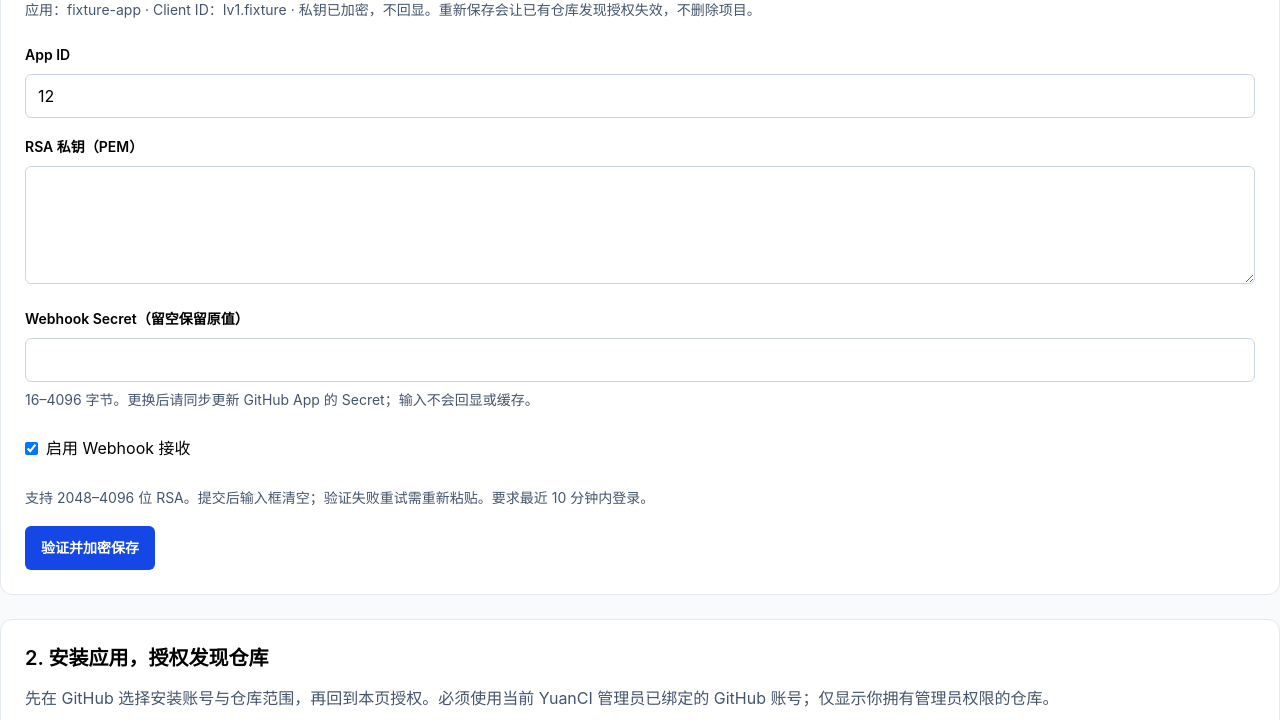
Test: webhook replacement is write-only and health distinguishes local readiness
The width and height of the screenshot is (1280, 720).
(page scrolled)
Type "synthetic-webhook-replacement" into the password field labelled "Webhook Secret（留空保留原值）".
click(640, 360); type("synthetic-webhook-replacement")  # box [25,338,1255,382]
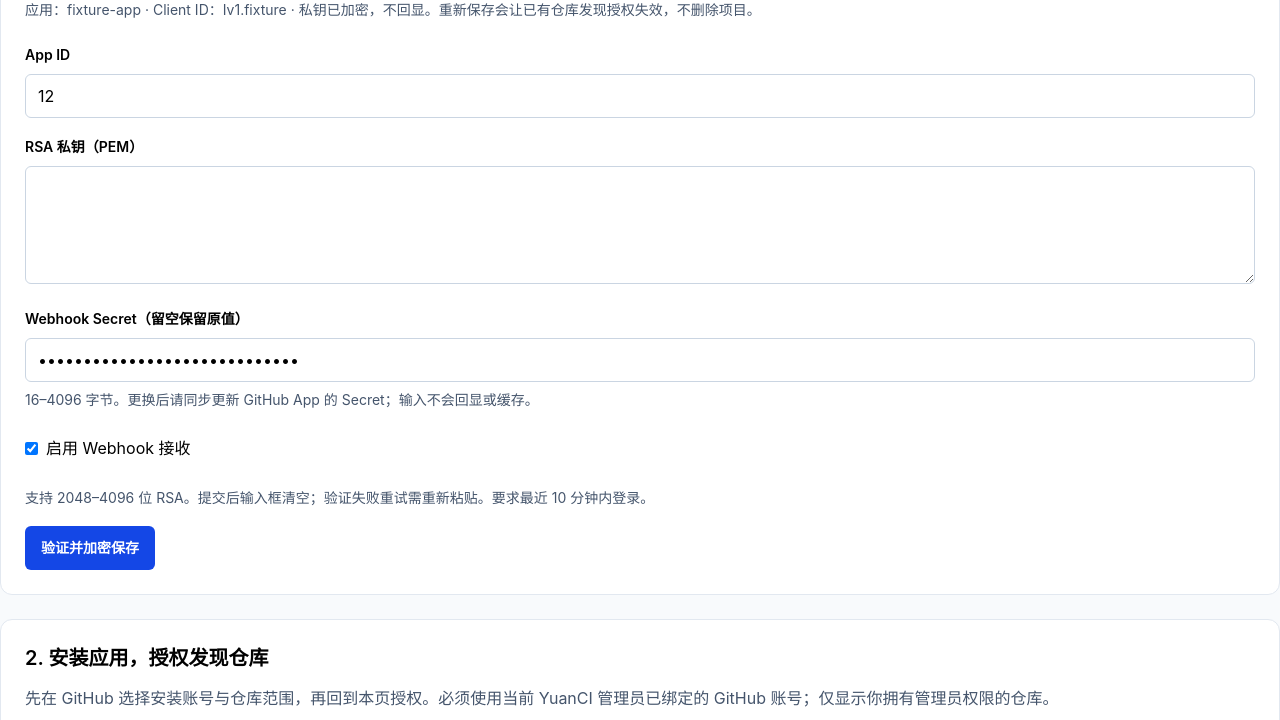
Type "synthetic-key" into the text box labelled "RSA 私钥（PEM）".
click(640, 225); type("synthetic-key")  # box [25,166,1255,284]
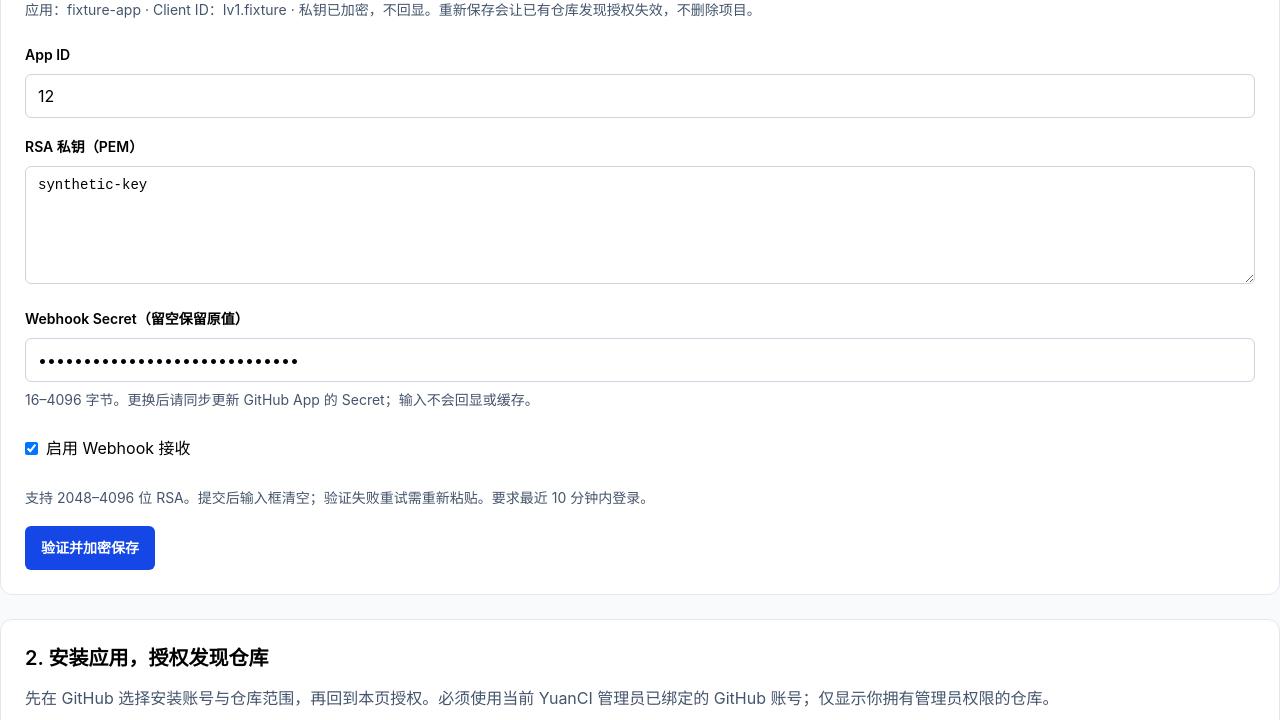
Submit the form named "App 已配置"
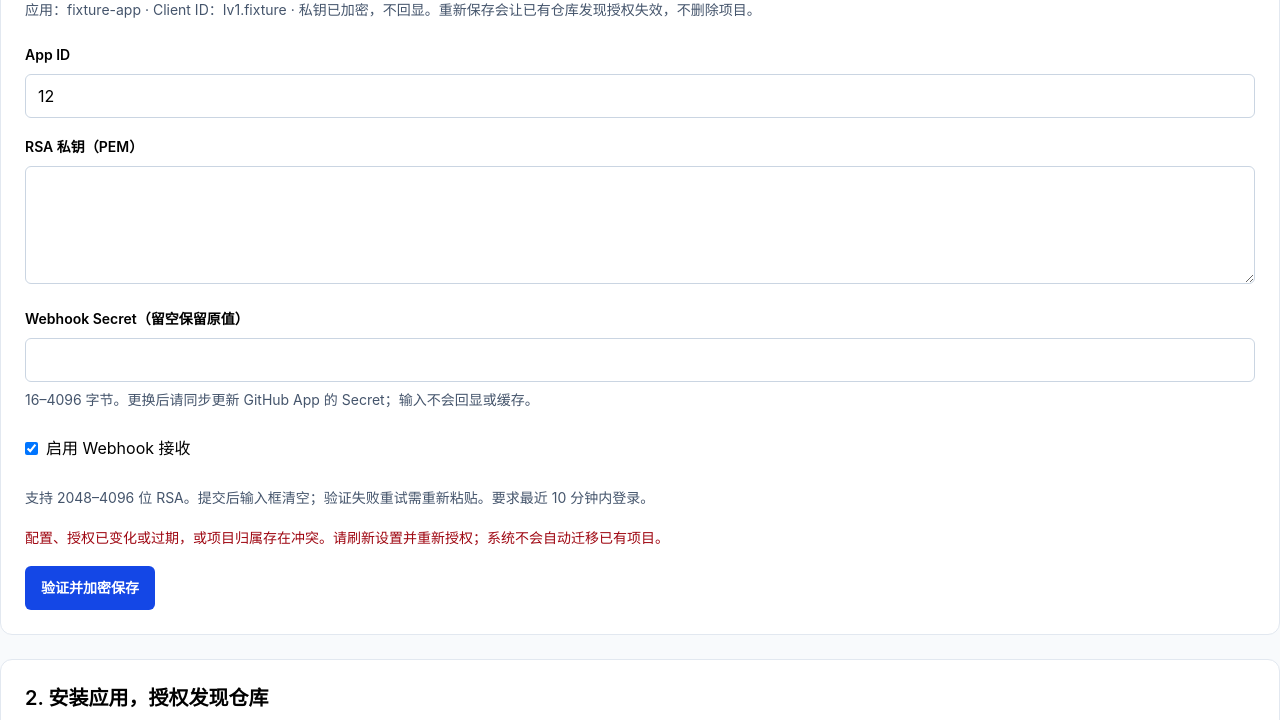
Expected: the message "配置、授权已变化或过期，或项目归属存在冲突。请刷新设置并重新授权；系统不会自动迁移已有项目。" is shown, [25,529,669,546]
Expected: the password field labelled "Webhook Secret（留空保留原值）" is empty, [25,338,1255,382]
